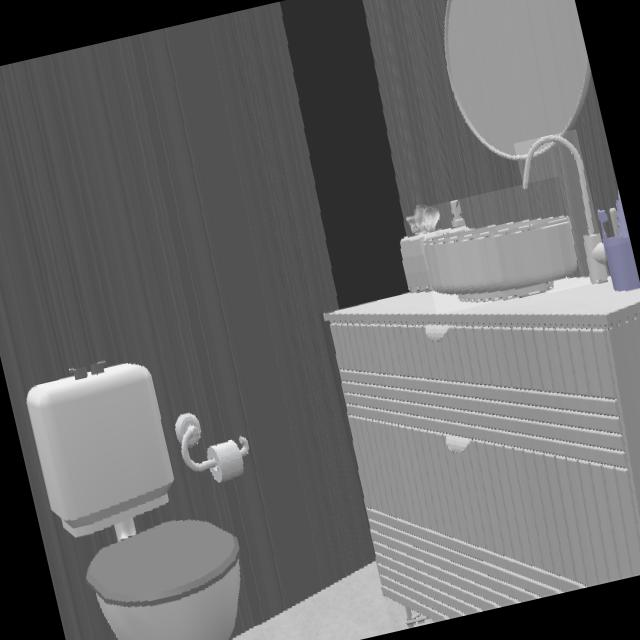cabinet: (326, 278, 640, 618)
toilet: (27, 363, 240, 640)
washbasin: (423, 200, 577, 301), (523, 136, 607, 282)
